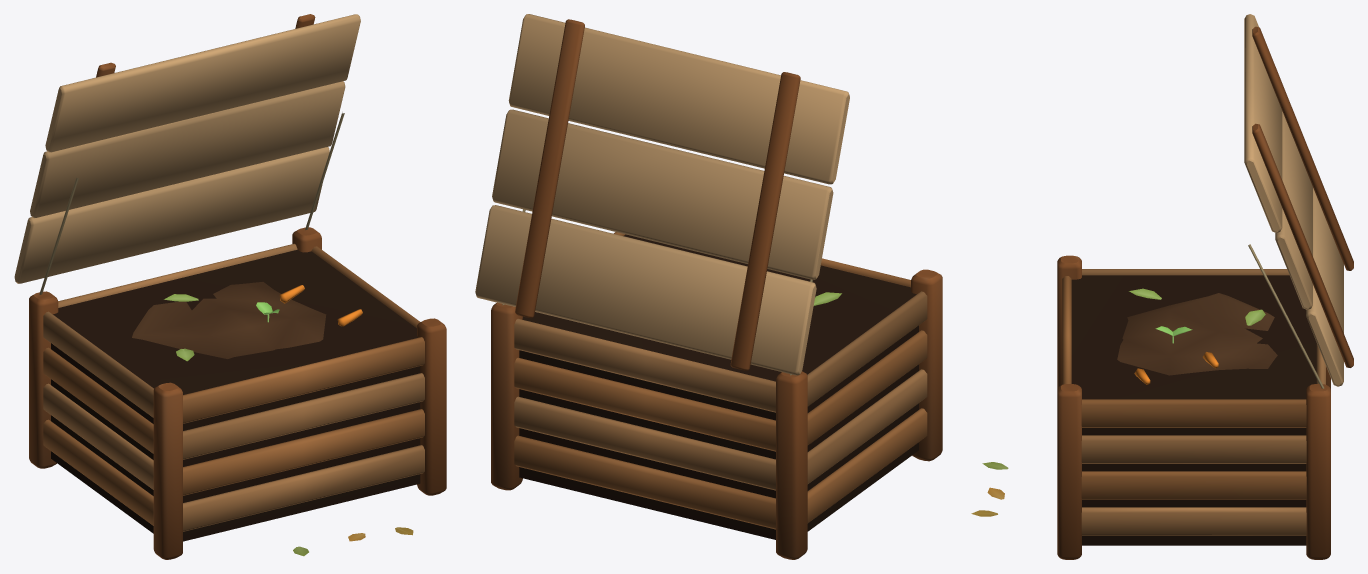
3 renders of one model, left to right at view 1: azimuth 30°, elevation 25°; view 2: azimuth 150°, elevation 25°; view 3: azimuth 270°, elevation 25°, orthographic. The views are drawn at different scales.
Parts seen in each view (by area): view 1: compost; view 2: compost; view 3: compost.
Boxes of the visible parts, <box> form: compost: <box>14,14,446,559</box>; compost: <box>475,14,942,559</box>; compost: <box>971,14,1353,559</box>.
Bounding box in the file's own units: 1.26 × 1.71 × 1.4.
